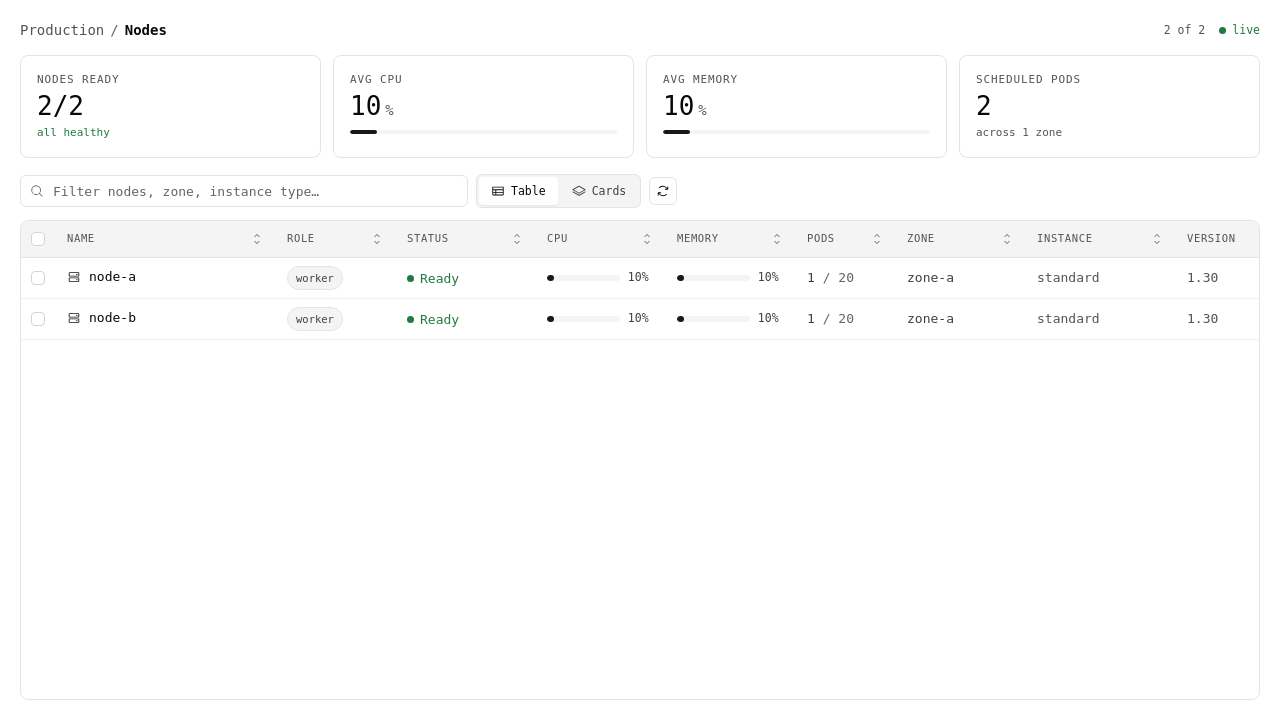
it: NodesView drain reporting › shows progress and cancellation without reporting success
Step 1. Click the checkbox next to "NAME" → [38, 239], box [31,232,45,246]
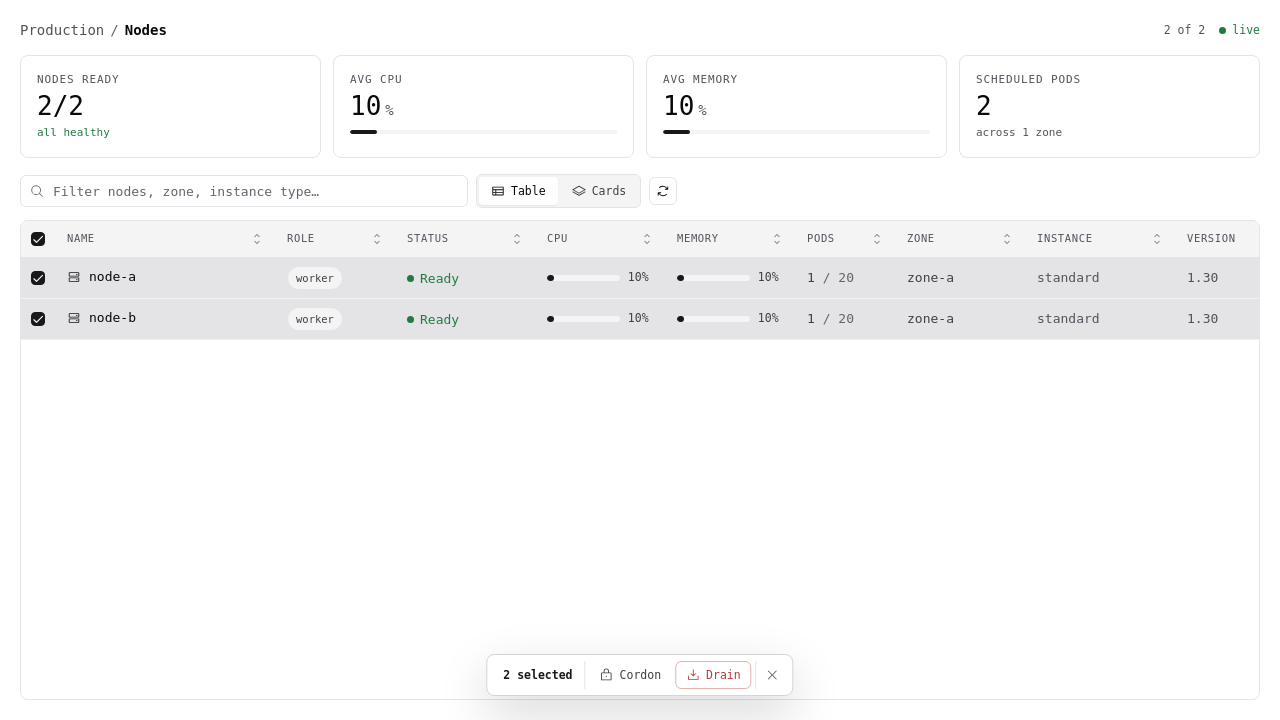
Step 2. Click the button "Drain" → [713, 675], box [675,661,752,689]
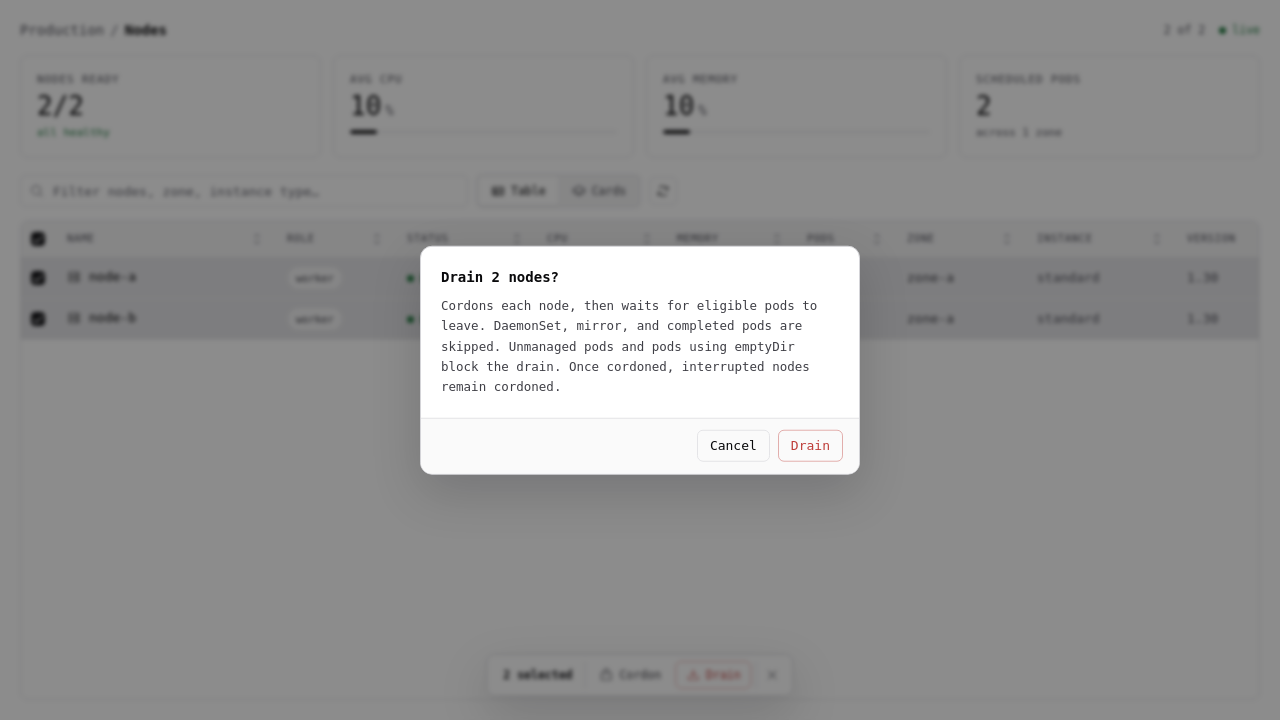
Step 3. Click the button "Drain" → [810, 446], box [778,430,843,462]
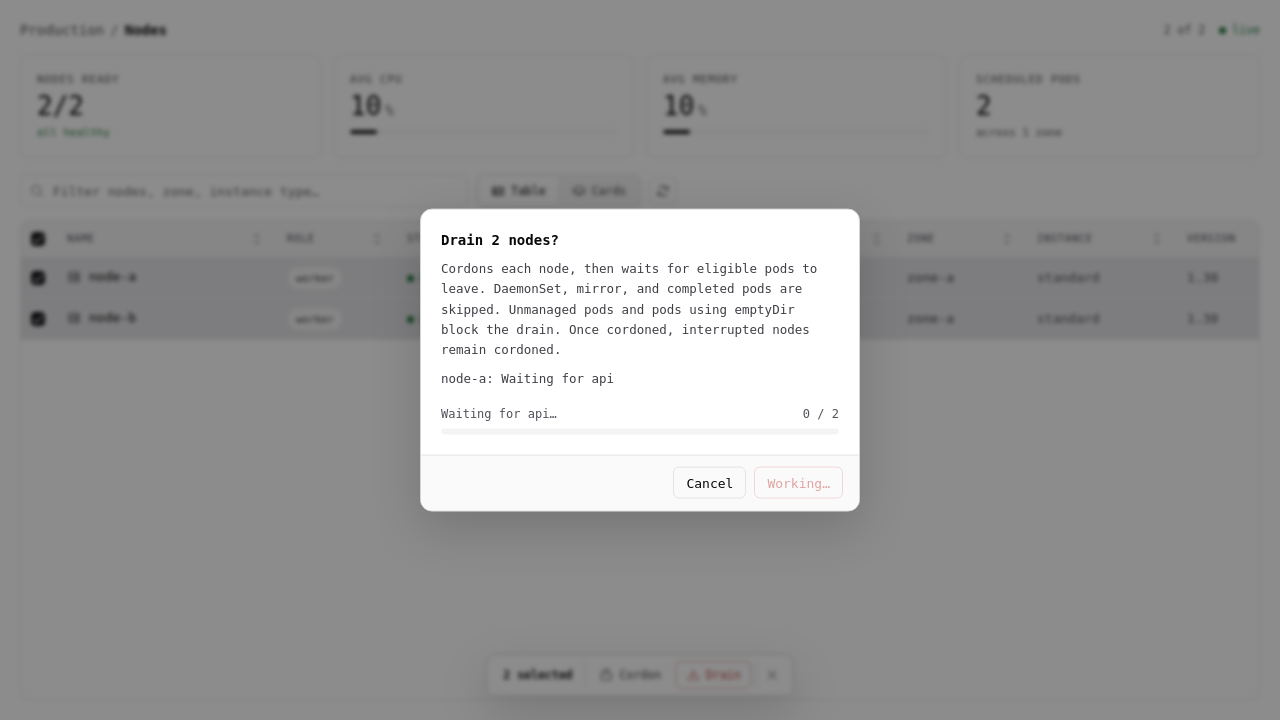
Check: the text "node-a: Waiting for api" is shown, box [441,370,614,385]
Step 4. Click the button "Cancel" → [710, 483], box [673,467,746,499]
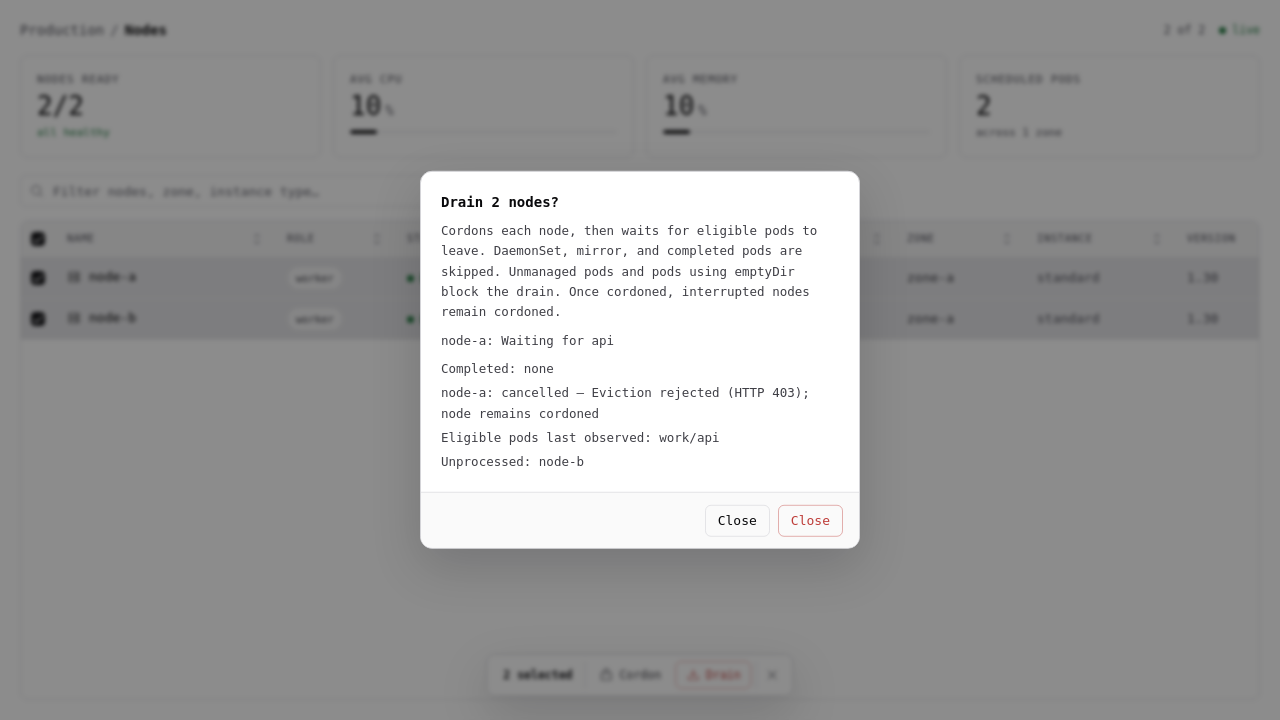
Check: the text "node-a: cancelled" is shown, box [441,383,839,424]
